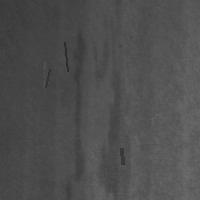inclusion: (90, 25, 128, 198), (65, 25, 90, 198), (62, 40, 69, 73), (43, 67, 51, 89), (119, 146, 124, 166)
